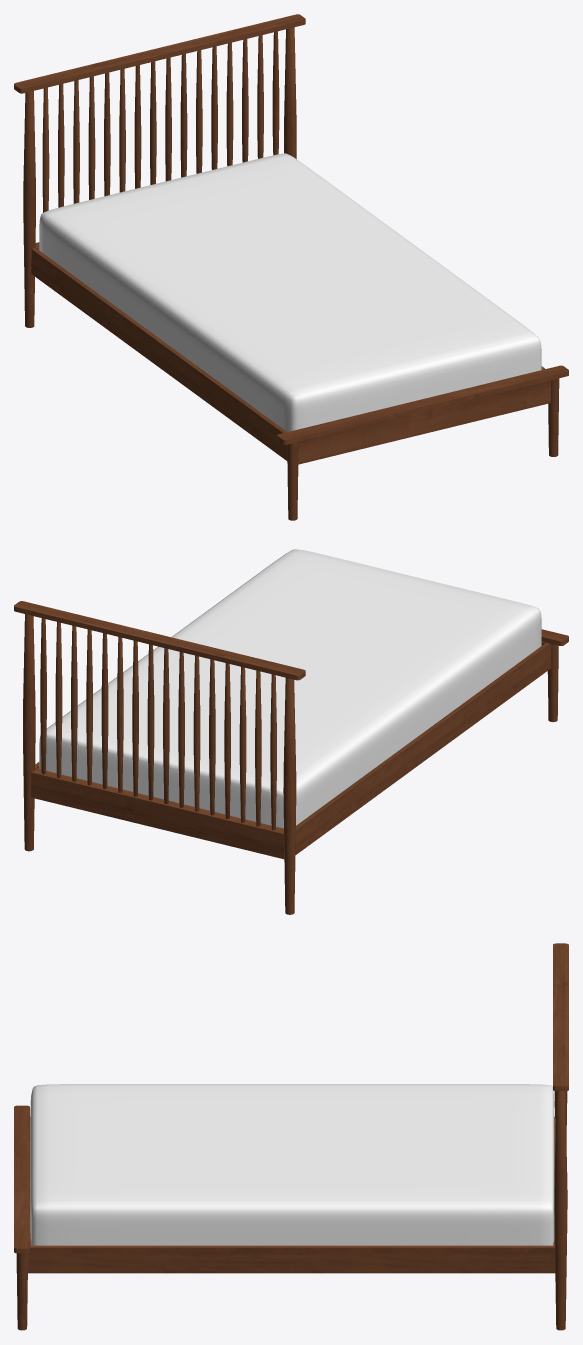
The model's file is bed_10_03.fbx.
3 renders of one model, top to bottom at view 1: azimuth 30°, elevation 25°; view 2: azimuth 150°, elevation 25°; view 3: azimuth 270°, elevation 25°, orthographic. The views are drawn at different scales.
Visible parts, largest first — view 1: bed_10_03.001; view 2: bed_10_03.001; view 3: bed_10_03.001.
Boxes of the visible parts, bbox=[...] form: bed_10_03.001: bbox=[14, 14, 568, 520]; bed_10_03.001: bbox=[14, 549, 568, 914]; bed_10_03.001: bbox=[14, 943, 568, 1330].
Bounding box in the file's own units: 129 × 105 × 212.
1 material, 1 textured.
